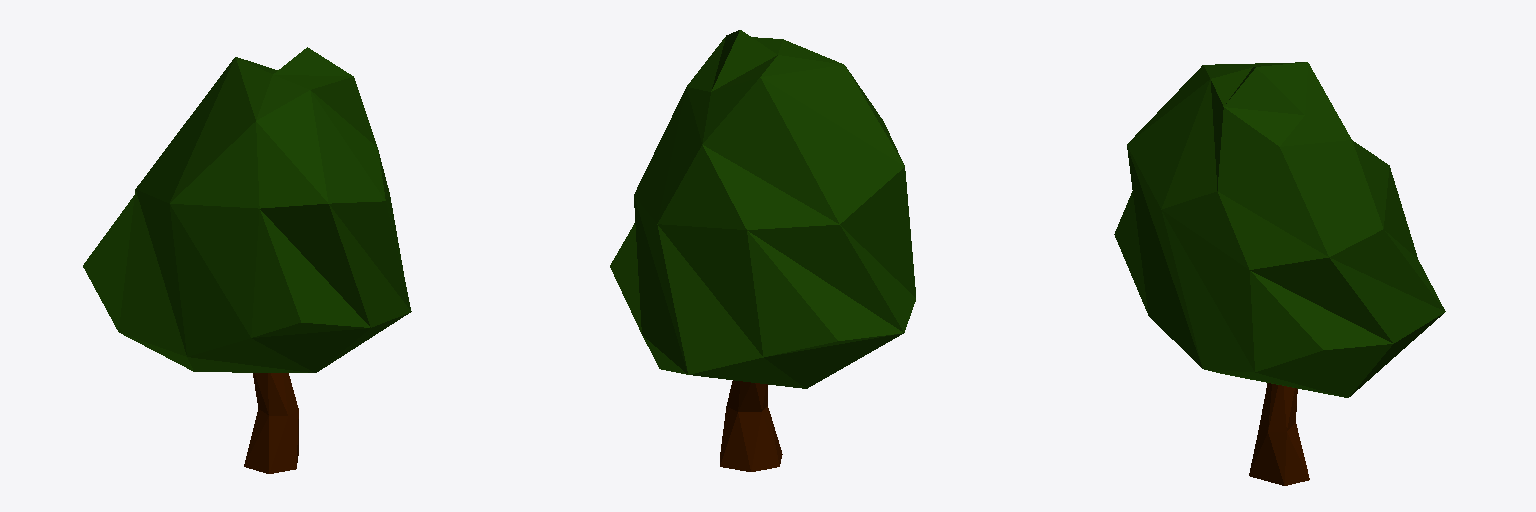
Rendered from Tree21.obj.
3 views of the same model, side by side, from view 1: azimuth 30°, elevation 25°; view 2: azimuth 150°, elevation 25°; view 3: azimuth 270°, elevation 25° (orthographic).
Visible parts, largest first — view 1: Tree_Type_2_1; view 2: Tree_Type_2_1; view 3: Tree_Type_2_1.
Boxes of the visible parts, x1,y1,x2,y2 form: Tree_Type_2_1: [83, 47, 411, 473]; Tree_Type_2_1: [610, 30, 915, 471]; Tree_Type_2_1: [1114, 62, 1445, 485].
Size of the model in its own units: 0.1409 by 0.2046 by 0.1478.